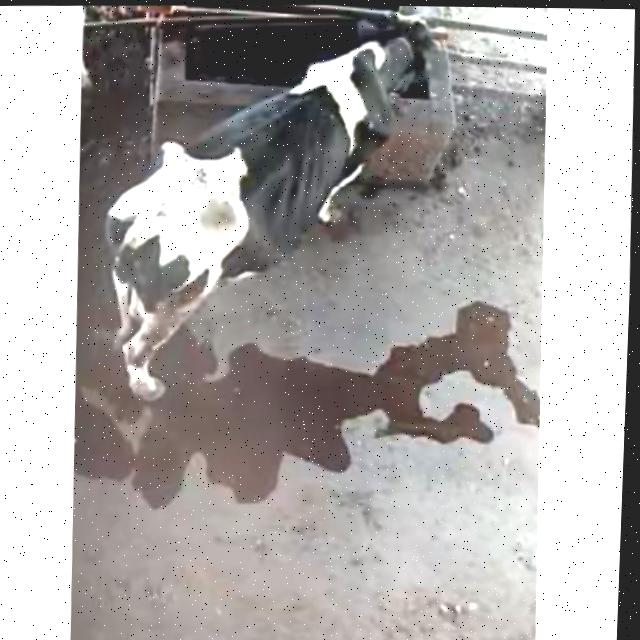drink: (258, 4, 476, 157)
